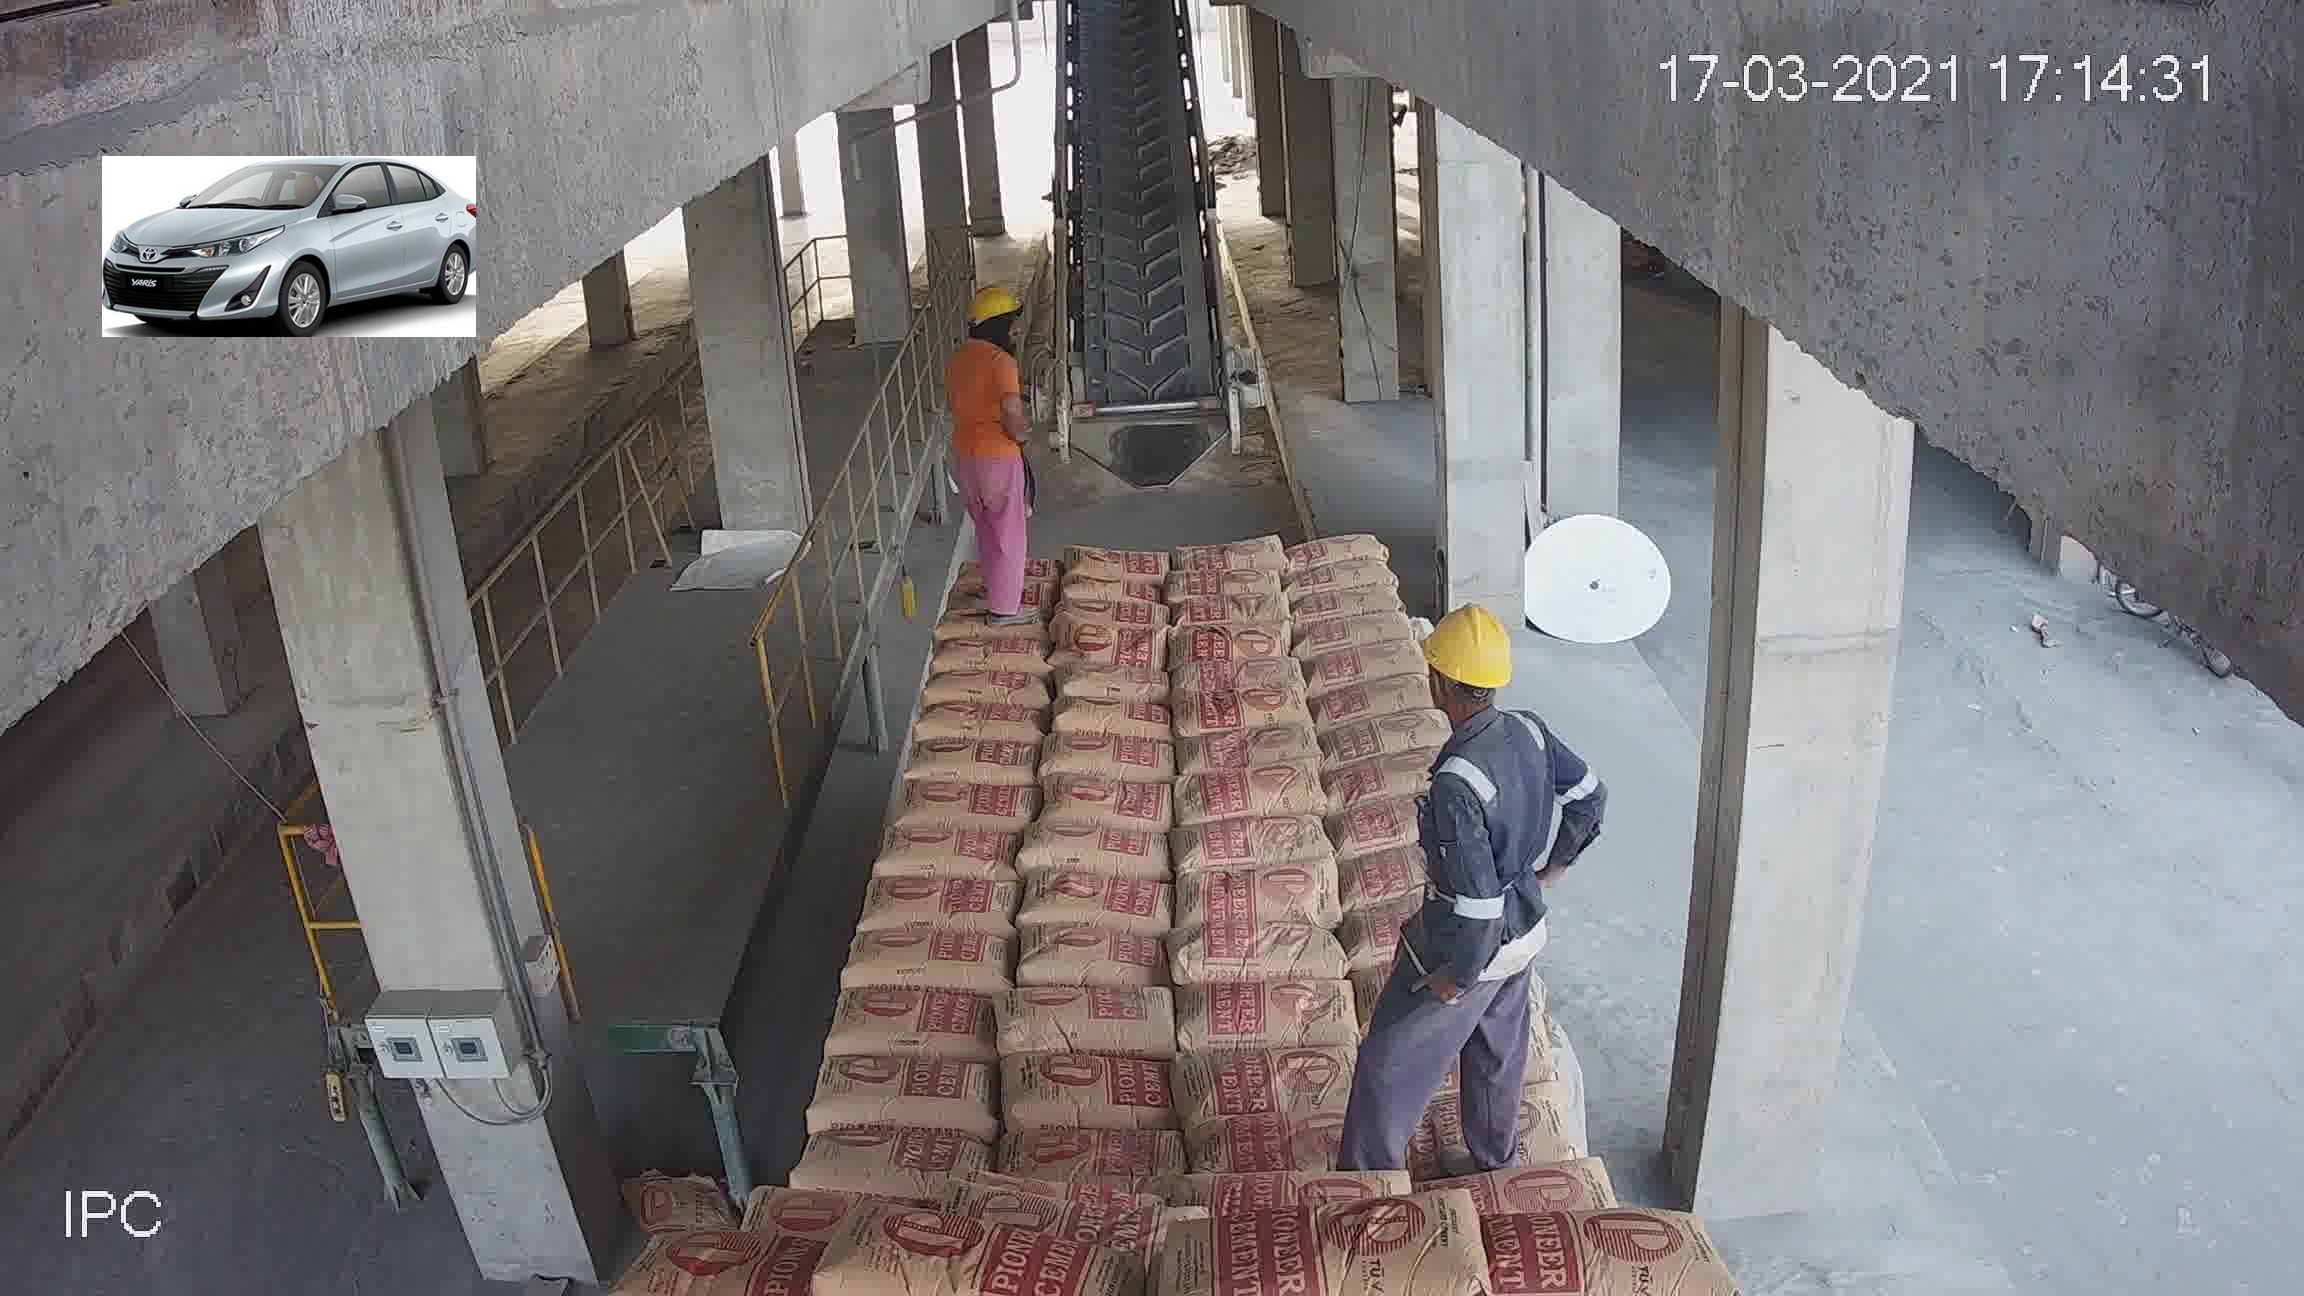bag_h: (1114, 1198, 1480, 1296), (794, 1215, 1135, 1296), (1486, 1187, 1723, 1294), (1168, 1049, 1367, 1136), (804, 1055, 1003, 1135), (1174, 983, 1366, 1059), (641, 1225, 845, 1296), (1002, 984, 1188, 1060), (1003, 1060, 1176, 1138), (831, 983, 999, 1057), (856, 872, 1022, 943), (997, 1124, 1188, 1185), (1173, 921, 1350, 987), (837, 927, 1013, 994), (1177, 861, 1337, 934), (1438, 1138, 1609, 1199), (1182, 760, 1332, 828), (1176, 810, 1329, 877), (1022, 815, 1165, 885), (1022, 873, 1180, 932), (1014, 934, 1176, 991), (892, 783, 1040, 839), (1046, 772, 1177, 832), (873, 829, 1021, 881), (1169, 652, 1315, 703), (905, 736, 1040, 790), (908, 701, 1055, 750), (1173, 687, 1315, 736), (1185, 722, 1324, 771), (1313, 753, 1431, 809), (1326, 707, 1438, 763), (1046, 741, 1174, 788), (908, 665, 1044, 709), (1062, 612, 1161, 671), (1060, 658, 1169, 707), (1051, 699, 1161, 745), (1171, 619, 1290, 661), (1291, 581, 1404, 625), (1334, 850, 1416, 908), (1182, 541, 1299, 581), (1305, 641, 1413, 684), (1169, 590, 1294, 627), (1334, 799, 1412, 858), (1305, 619, 1419, 658), (926, 635, 1041, 673), (1288, 522, 1389, 565), (1065, 541, 1169, 582), (1313, 680, 1405, 726), (1054, 598, 1171, 633), (1171, 568, 1283, 603), (1052, 574, 1163, 608), (1296, 559, 1400, 593)
belt: (1040, 0, 1237, 465)
